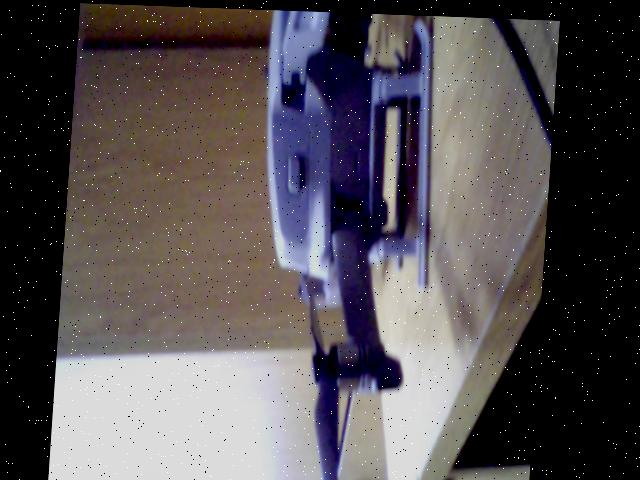drone: (234, 8, 467, 480)
